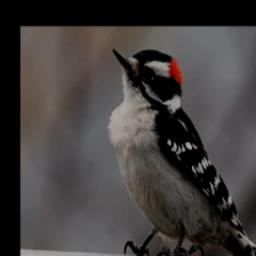Woodpecker: (106, 48, 256, 256)
